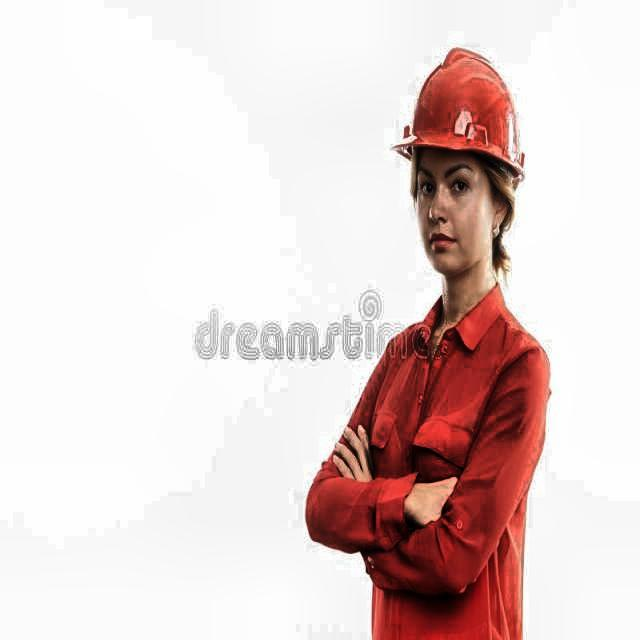person: (304, 38, 556, 640)
